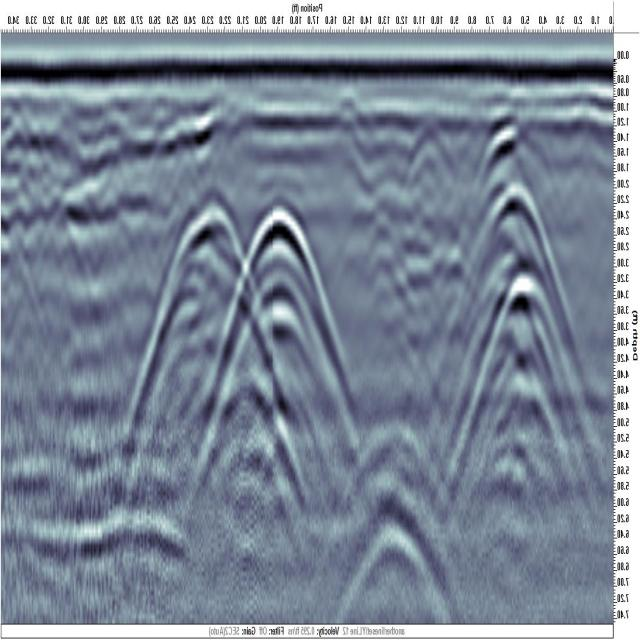hyperbola: (228, 198, 336, 361), (152, 198, 260, 348), (475, 258, 563, 426), (471, 178, 559, 272)
